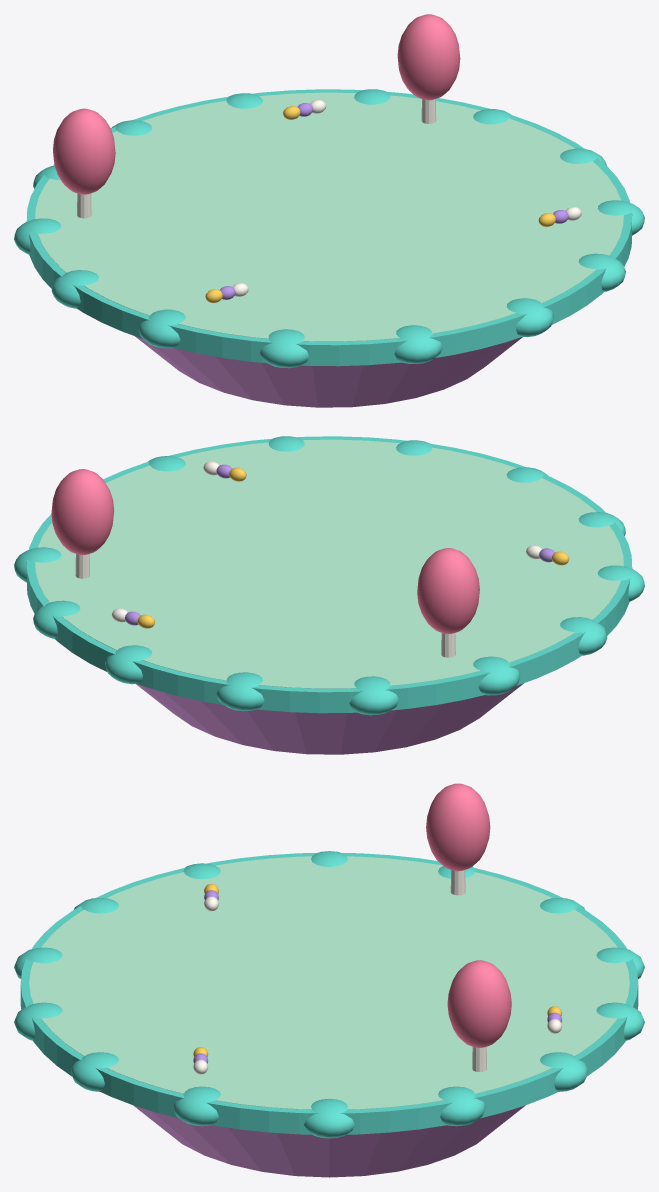
File: candy-island.gltf
The picture shows the model from 3 angles, top to bottom: view 1: azimuth 30°, elevation 25°; view 2: azimuth 150°, elevation 25°; view 3: azimuth 270°, elevation 25°; orthographic projection.
Parts seen in each view (by area): view 1: Pistachio island ground, Mint island rim, Floating cake base, Candy tree crown, Candy tree crown.001, Frosting scallop.009, Frosting scallop.010, Frosting scallop.008, Frosting scallop.011, Frosting scallop.007, Frosting scallop.012, Frosting scallop.006 (+1 smaller); view 2: Pistachio island ground, Mint island rim, Floating cake base, Candy tree crown.001, Candy tree crown, Frosting scallop.005, Frosting scallop.004, Frosting scallop.006, Frosting scallop.003, Frosting scallop.007, Frosting scallop.002, Frosting scallop.008 (+6 smaller); view 3: Pistachio island ground, Mint island rim, Floating cake base, Candy tree crown, Candy tree crown.001, Frosting scallop, Frosting scallop.001, Frosting scallop.013, Frosting scallop.002, Frosting scallop.012, Frosting scallop.003, Frosting scallop.011 (+2 smaller).
Boxes of the visible parts, x1=… form: Pistachio island ground: x1=35, y1=92, x2=623, y2=341; Mint island rim: x1=26, y1=89, x2=632, y2=366; Floating cake base: x1=135, y1=336, x2=522, y2=407; Candy tree crown: x1=53, y1=108, x2=115, y2=194; Candy tree crown.001: x1=397, y1=14, x2=460, y2=100; Frosting scallop.009: x1=260, y1=329, x2=309, y2=368; Frosting scallop.010: x1=394, y1=325, x2=442, y2=364; Frosting scallop.008: x1=138, y1=309, x2=185, y2=348; Frosting scallop.011: x1=506, y1=298, x2=553, y2=337; Frosting scallop.007: x1=51, y1=270, x2=98, y2=308; Frosting scallop.012: x1=578, y1=253, x2=625, y2=291; Frosting scallop.006: x1=14, y1=218, x2=61, y2=254; Pistachio island ground: x1=35, y1=439, x2=623, y2=688; Mint island rim: x1=26, y1=436, x2=632, y2=713; Floating cake base: x1=136, y1=683, x2=523, y2=754; Candy tree crown.001: x1=51, y1=469, x2=114, y2=554; Candy tree crown: x1=417, y1=548, x2=479, y2=633; Frosting scallop.005: x1=349, y1=676, x2=398, y2=715; Frosting scallop.004: x1=216, y1=672, x2=264, y2=711; Frosting scallop.006: x1=473, y1=656, x2=520, y2=695; Frosting scallop.003: x1=105, y1=645, x2=152, y2=684; Frosting scallop.007: x1=560, y1=617, x2=607, y2=655; Frosting scallop.002: x1=33, y1=600, x2=80, y2=638; Frosting scallop.008: x1=597, y1=565, x2=644, y2=601; Pistachio island ground: x1=29, y1=856, x2=629, y2=1109; Mint island rim: x1=20, y1=853, x2=638, y2=1134; Floating cake base: x1=133, y1=1105, x2=525, y2=1177; Candy tree crown: x1=426, y1=783, x2=490, y2=871; Candy tree crown.001: x1=447, y1=960, x2=511, y2=1047; Frosting scallop: x1=304, y1=1098, x2=354, y2=1138; Frosting scallop.001: x1=438, y1=1086, x2=485, y2=1126; Frosting scallop.013: x1=173, y1=1086, x2=220, y2=1126; Frosting scallop.002: x1=540, y1=1052, x2=588, y2=1091; Frosting scallop.012: x1=70, y1=1052, x2=118, y2=1091; Frosting scallop.003: x1=596, y1=1002, x2=644, y2=1040; Frosting scallop.011: x1=14, y1=1002, x2=62, y2=1040.
Size of the model in its own units: 6.02 by 2.33 by 5.88.
